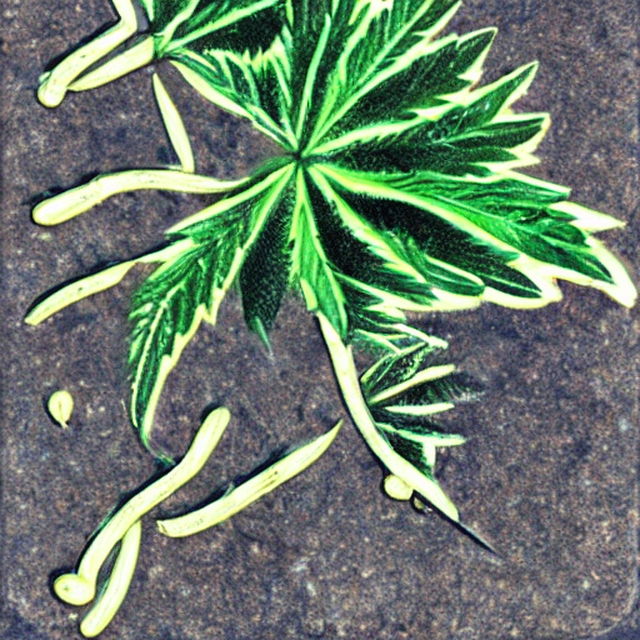Marijuana Leaf: (23, 0, 638, 559)
